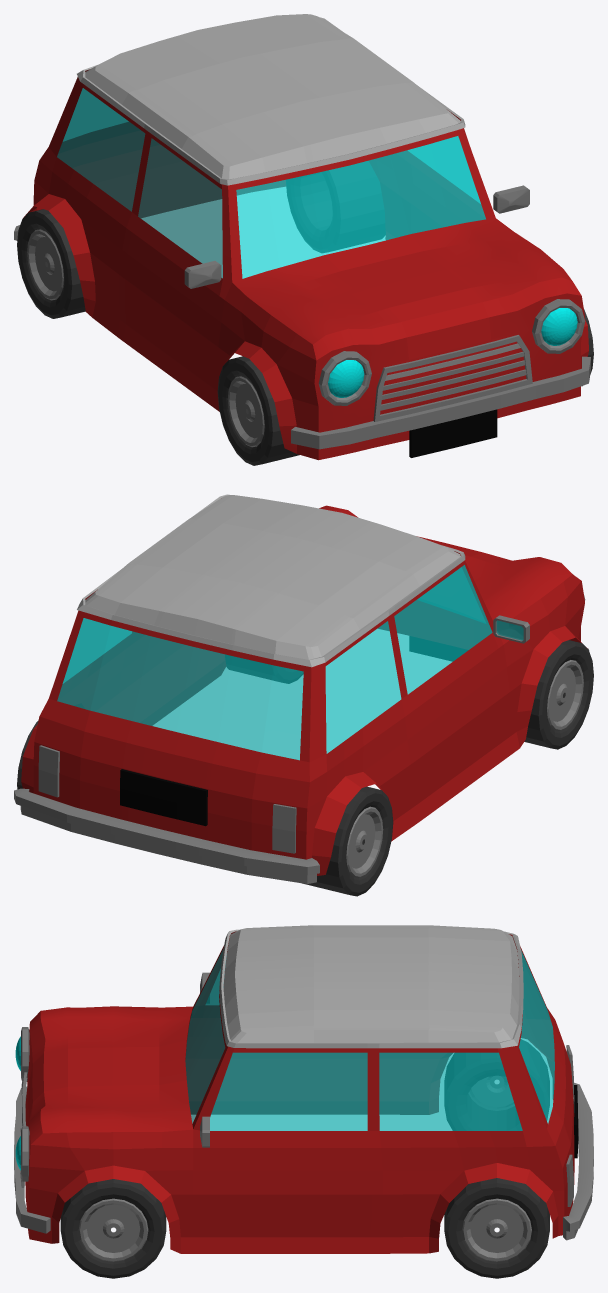
Rendered from TestCarMesh.fbx.
The picture shows the model from 3 angles, top to bottom: view 1: azimuth 30°, elevation 25°; view 2: azimuth 150°, elevation 25°; view 3: azimuth 270°, elevation 25°; orthographic projection. The views are drawn at different scales.
Visible parts, largest first — view 1: polySurface43, polySurface25, polySurface27, polySurface29; view 2: polySurface43, polySurface29, polySurface27, polySurface23; view 3: polySurface43, polySurface25, polySurface23, polySurface29.
Part boxes in pixels (box(x1,y1,x2,y2)): polySurface43: box(14, 14, 590, 460); polySurface25: box(286, 161, 385, 252); polySurface27: box(217, 356, 299, 465); polySurface29: box(17, 209, 85, 318); polySurface43: box(14, 494, 589, 883); polySurface29: box(302, 786, 393, 896); polySurface27: box(524, 640, 593, 749); polySurface23: box(225, 654, 303, 683); polySurface43: box(14, 925, 593, 1253); polySurface25: box(444, 1178, 549, 1278); polySurface23: box(60, 1179, 166, 1278); polySurface29: box(444, 1039, 549, 1130).
Bounding box in the file's own units: 2.09 × 1.43 × 3.22.
